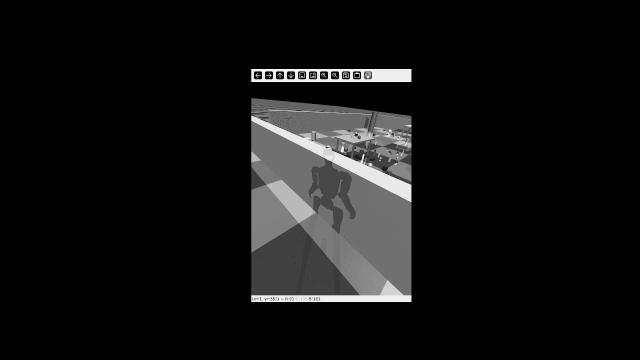cilindro: (369, 111, 378, 131), (312, 131, 317, 141), (386, 170, 393, 175), (341, 142, 346, 147), (400, 150, 404, 155), (405, 138, 409, 143), (351, 134, 355, 138), (373, 149, 377, 153), (377, 153, 381, 157), (347, 129, 352, 132), (394, 159, 399, 162), (392, 134, 395, 139), (363, 154, 365, 161), (396, 151, 399, 153)
cuadrado: (381, 165, 389, 170), (303, 137, 312, 141), (358, 149, 364, 153), (388, 157, 392, 161), (354, 133, 358, 136), (364, 145, 367, 148), (373, 133, 376, 136), (391, 133, 395, 135), (383, 130, 386, 132), (389, 150, 392, 152)
esfera: (356, 134, 362, 140), (368, 162, 374, 168), (326, 144, 331, 148), (343, 147, 348, 151), (387, 132, 390, 135), (386, 147, 389, 150), (396, 157, 399, 160), (374, 141, 377, 144), (388, 130, 391, 132), (379, 157, 382, 159), (361, 143, 364, 145), (354, 146, 356, 149), (398, 136, 400, 138), (391, 152, 392, 154)
rectangulo: (370, 157, 376, 161)
